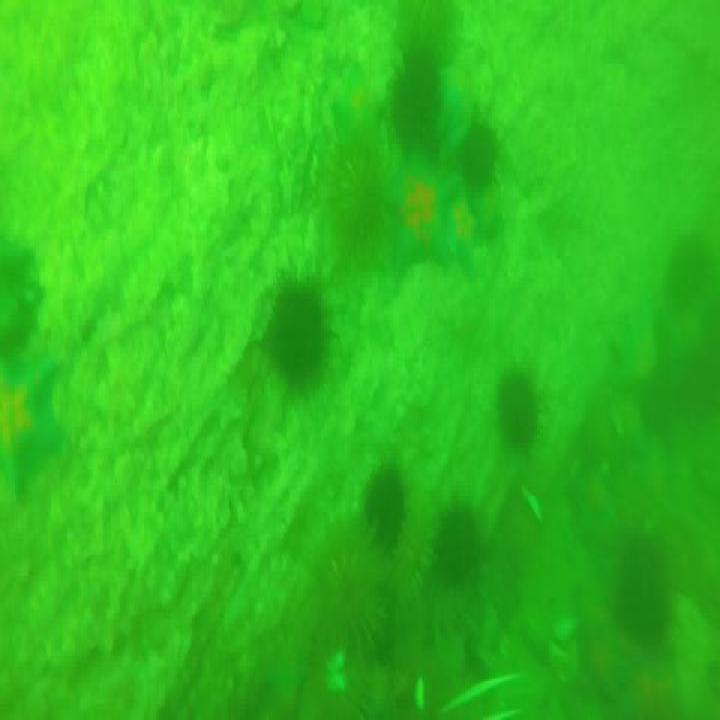echinus: (324, 550, 393, 668), (618, 526, 678, 647), (262, 279, 327, 384), (322, 133, 381, 242), (389, 52, 445, 164), (359, 464, 405, 555), (440, 505, 482, 585), (498, 368, 540, 444), (643, 363, 683, 439), (457, 126, 505, 183), (669, 228, 704, 306)
starfish: (0, 352, 62, 507), (381, 160, 459, 274)
